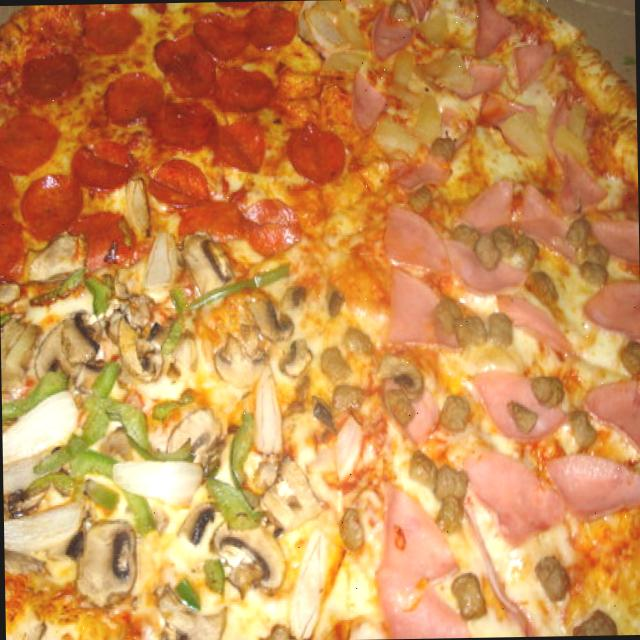Bell Pepper: (78, 371, 150, 462), (190, 260, 292, 316), (38, 430, 113, 499), (33, 266, 118, 315), (230, 408, 258, 532), (206, 475, 262, 537), (162, 282, 191, 358), (90, 485, 150, 518), (202, 558, 225, 592), (177, 579, 200, 613)
mushrooms: (210, 286, 316, 389), (1, 386, 82, 490), (3, 494, 84, 580), (70, 516, 140, 608), (214, 522, 288, 602), (258, 449, 328, 531), (108, 292, 168, 386), (114, 454, 208, 510), (32, 309, 99, 380), (158, 581, 229, 640), (248, 360, 288, 460), (167, 406, 218, 468), (173, 500, 216, 549)
pepperoni: (15, 172, 84, 242), (68, 207, 141, 271), (153, 33, 218, 100), (284, 120, 348, 188), (208, 61, 276, 118), (211, 111, 266, 178), (151, 98, 219, 151), (18, 46, 78, 104), (0, 111, 55, 173), (68, 134, 134, 184), (192, 6, 253, 59), (149, 157, 208, 210), (243, 196, 296, 254), (84, 7, 148, 53), (108, 72, 164, 121), (238, 2, 300, 46), (0, 188, 27, 272)
pizza: (0, 0, 640, 640)
